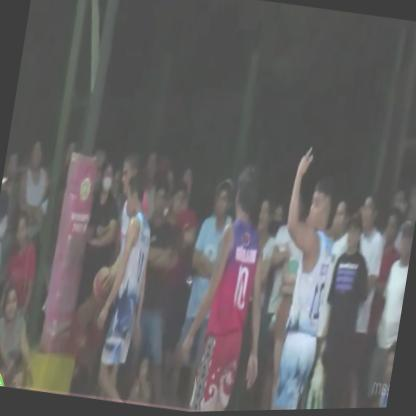basketball: (87, 263, 113, 310)
